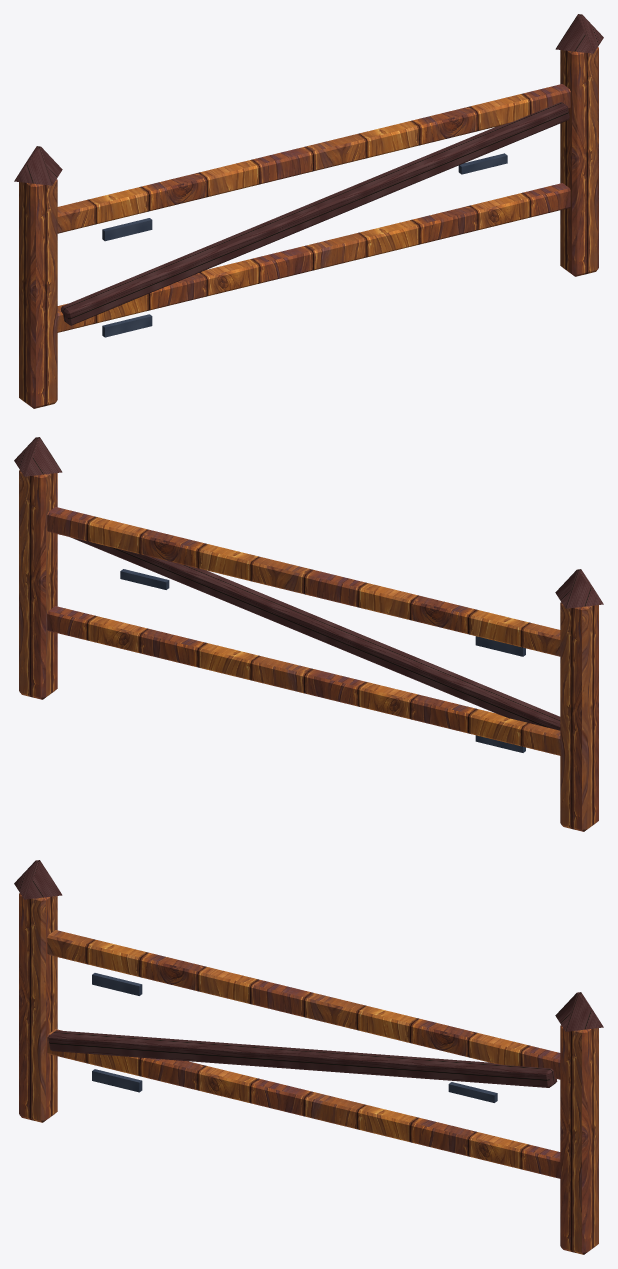
The model's file is Fence_Gate.fbx.
3 views of the same model, one above another, from view 1: azimuth 30°, elevation 25°; view 2: azimuth 150°, elevation 25°; view 3: azimuth 330°, elevation 25° (orthographic).
Parts seen in each view (by area): view 1: Fence rail.001, Fence rail, Gate brace, Fence post, Fence post.001, Post cap, Post cap.001, Gate hinge strap, Gate hinge strap.001, Gate closing latch; view 2: Fence rail.001, Fence rail, Gate brace, Fence post, Fence post.001, Post cap, Post cap.001, Gate closing latch; view 3: Fence rail.001, Fence rail, Gate brace, Fence post.001, Fence post, Post cap, Post cap.001, Gate hinge strap, Gate hinge strap.001, Gate closing latch.
Part boxes in pixels (x1,y1,x2,y2): Fence rail.001: (57,84,570,233); Fence rail: (57,183,570,332); Gate brace: (61,102,569,325); Fence post: (19,179,57,408); Fence post.001: (560,47,598,276); Post cap: (14,146,62,185); Post cap.001: (555,14,603,53); Gate hinge strap: (102,314,152,337); Gate hinge strap.001: (102,218,152,241); Gate closing latch: (458,153,507,174); Fence rail.001: (47,507,560,656); Fence rail: (47,606,560,755); Gate brace: (71,537,560,730); Fence post: (560,602,598,831); Fence post.001: (19,470,57,699); Post cap: (555,569,603,608); Post cap.001: (14,437,62,476); Gate closing latch: (120,569,169,589); Fence rail.001: (47,930,560,1079); Fence rail: (47,1029,560,1178); Gate brace: (48,1030,557,1087); Fence post.001: (560,1025,598,1254); Fence post: (19,893,57,1122); Post cap: (14,860,62,899); Post cap.001: (555,992,603,1031); Gate hinge strap: (92,1069,142,1092); Gate hinge strap.001: (92,973,142,995); Gate closing latch: (448,1082,497,1102).
Bounding box in the file's own units: 436 × 180 × 36.
